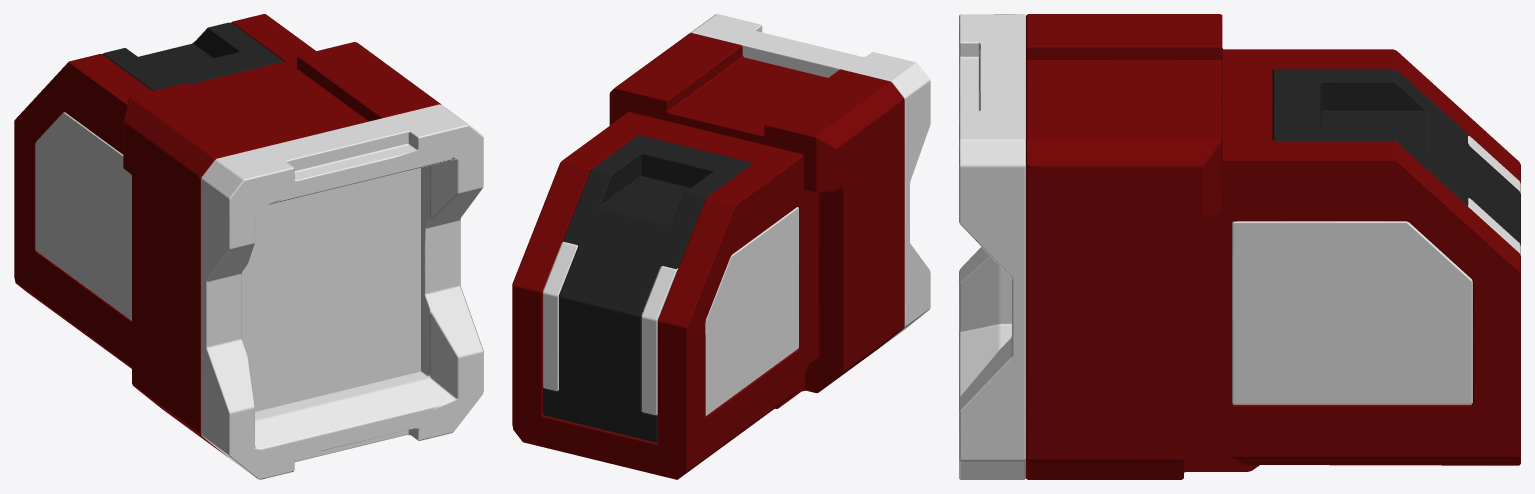
File: Ship_Light_Torch_001.fbx
3 views of the same model, side by side, from view 1: azimuth 30°, elevation 25°; view 2: azimuth 150°, elevation 25°; view 3: azimuth 270°, elevation 25° (orthographic). The views are drawn at different scales.
Parts seen in each view (by area): view 1: Light_Torch; view 2: Light_Torch; view 3: Light_Torch.
Boxes of the visible parts, left/top/right/bottom form: Light_Torch: left=14, top=14, right=483, bottom=479; Light_Torch: left=512, top=14, right=930, bottom=479; Light_Torch: left=959, top=14, right=1520, bottom=479.
Size of the model in its own units: 36.4 by 41.5 by 60.44.
